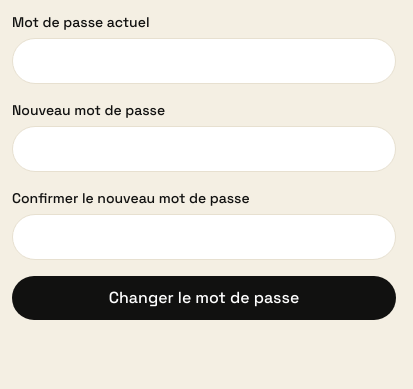
Scenario: AccountPasswordForm › NEVER changes the password when the current one is wrong
The image size is (413, 389).
In the password field labelled "Mot de passe actuel": (204, 61) [12, 38, 396, 84], type "mauvais-mot-de-passe"
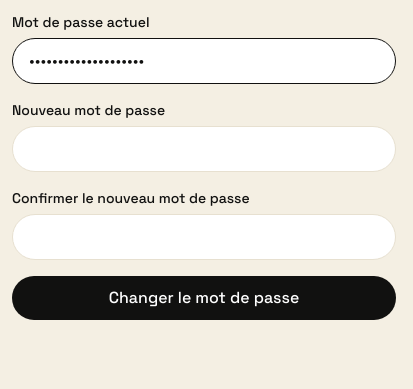
In the password field labelled "Nouveau mot de passe": (204, 149) [12, 126, 396, 172], type "motdepasse-valide"
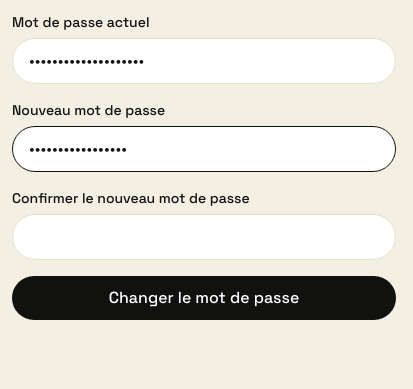
In the password field labelled "Confirmer le nouveau mot de passe": (204, 237) [12, 214, 396, 260], type "motdepasse-valide"
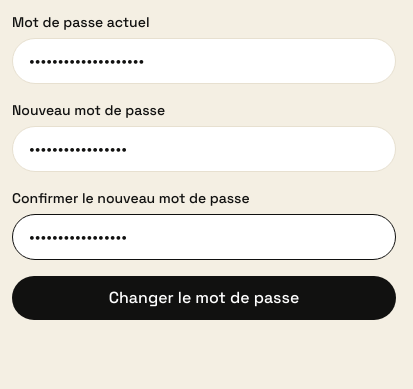
Click the button "Changer le mot de passe": (204, 298) [12, 276, 396, 320]
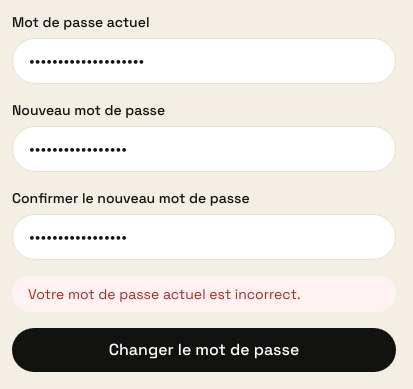
Now the message shows "actuel est incorrect", box [28, 285, 300, 303]
